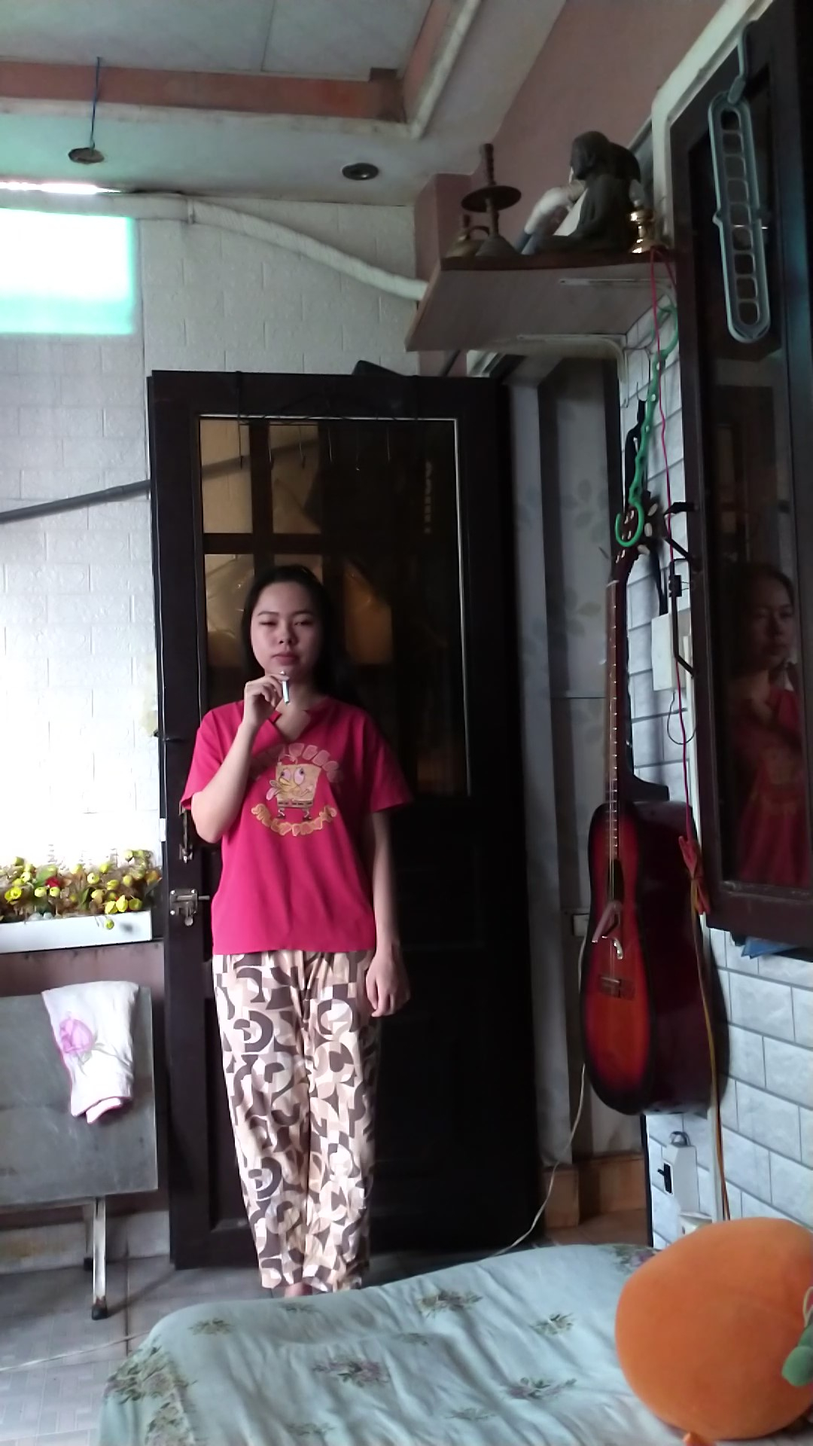cigarette: (280, 681, 293, 709)
person: (181, 534, 416, 1330)
